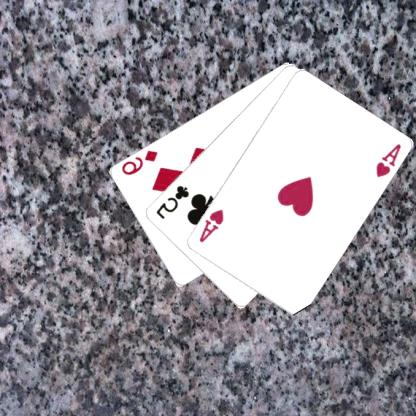5C: (155, 182, 192, 220)
9D: (120, 147, 161, 177)
AH: (374, 140, 404, 178), (198, 206, 226, 244)
